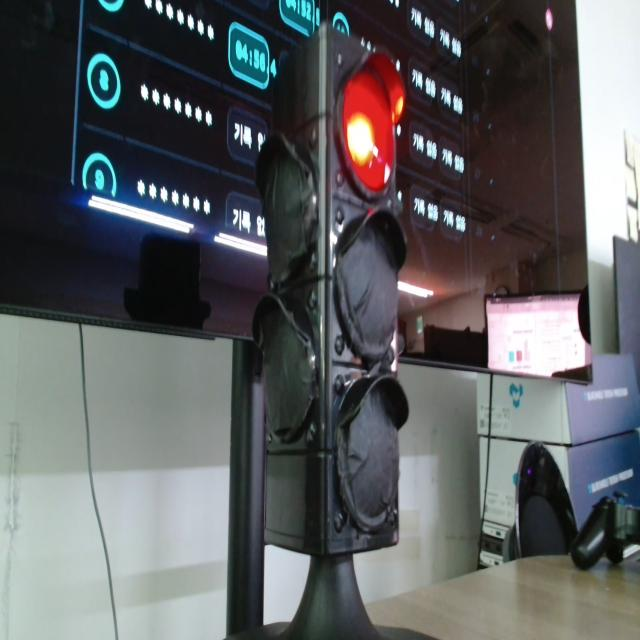red_light: (343, 70, 396, 193)
